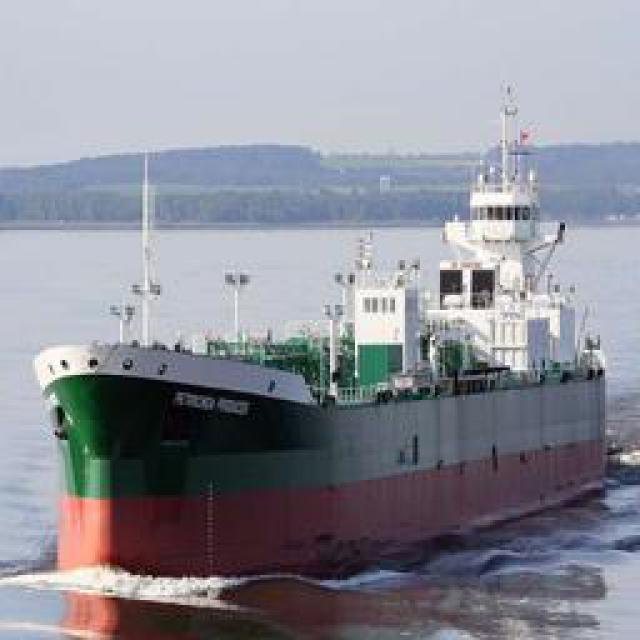Ship: (26, 81, 614, 601)
